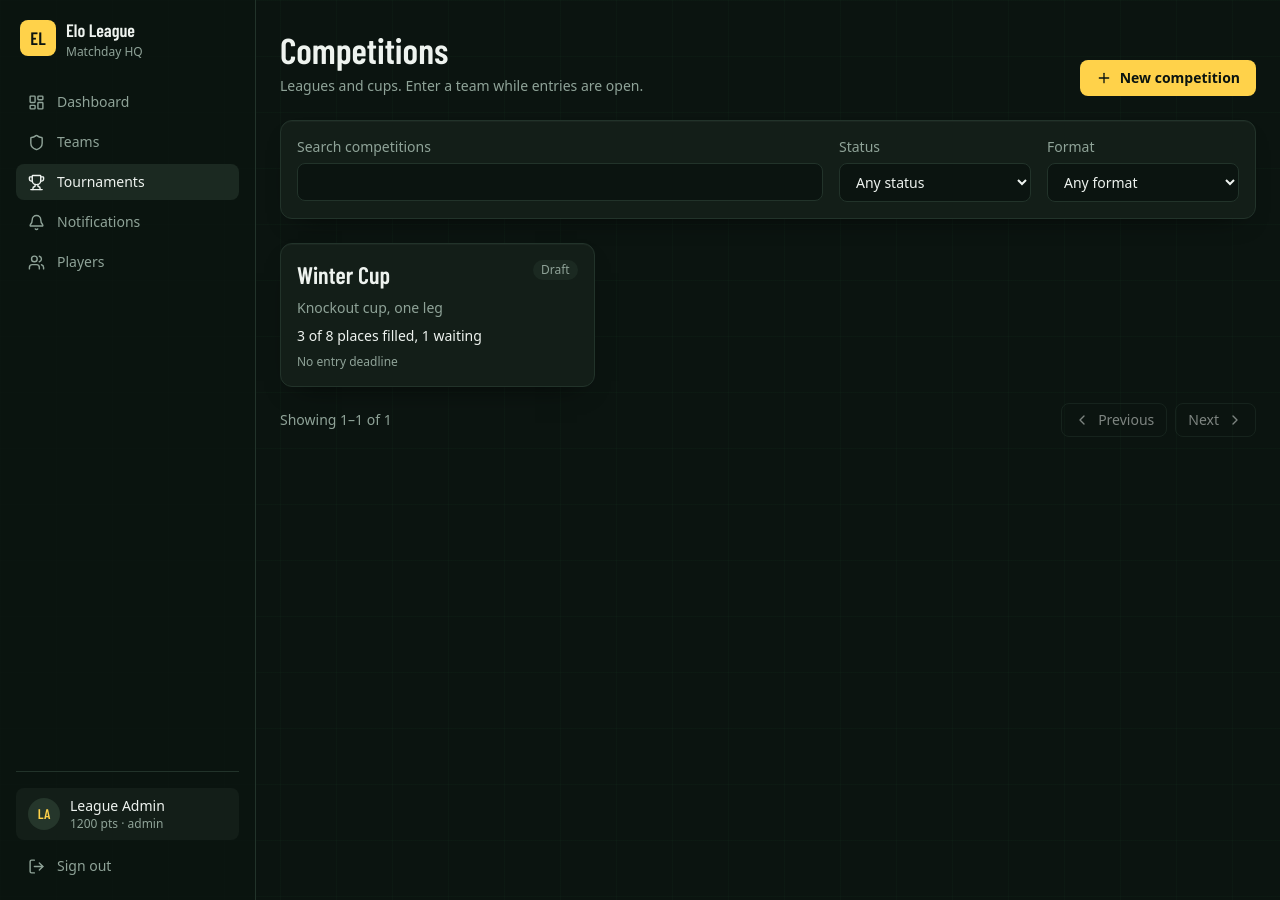
Test: creating a competition › checks the form before sending anything
This screenshot has width=1280, height=900.
Click the button "New competition" at point(1168, 78), box [1080,60,1256,96]
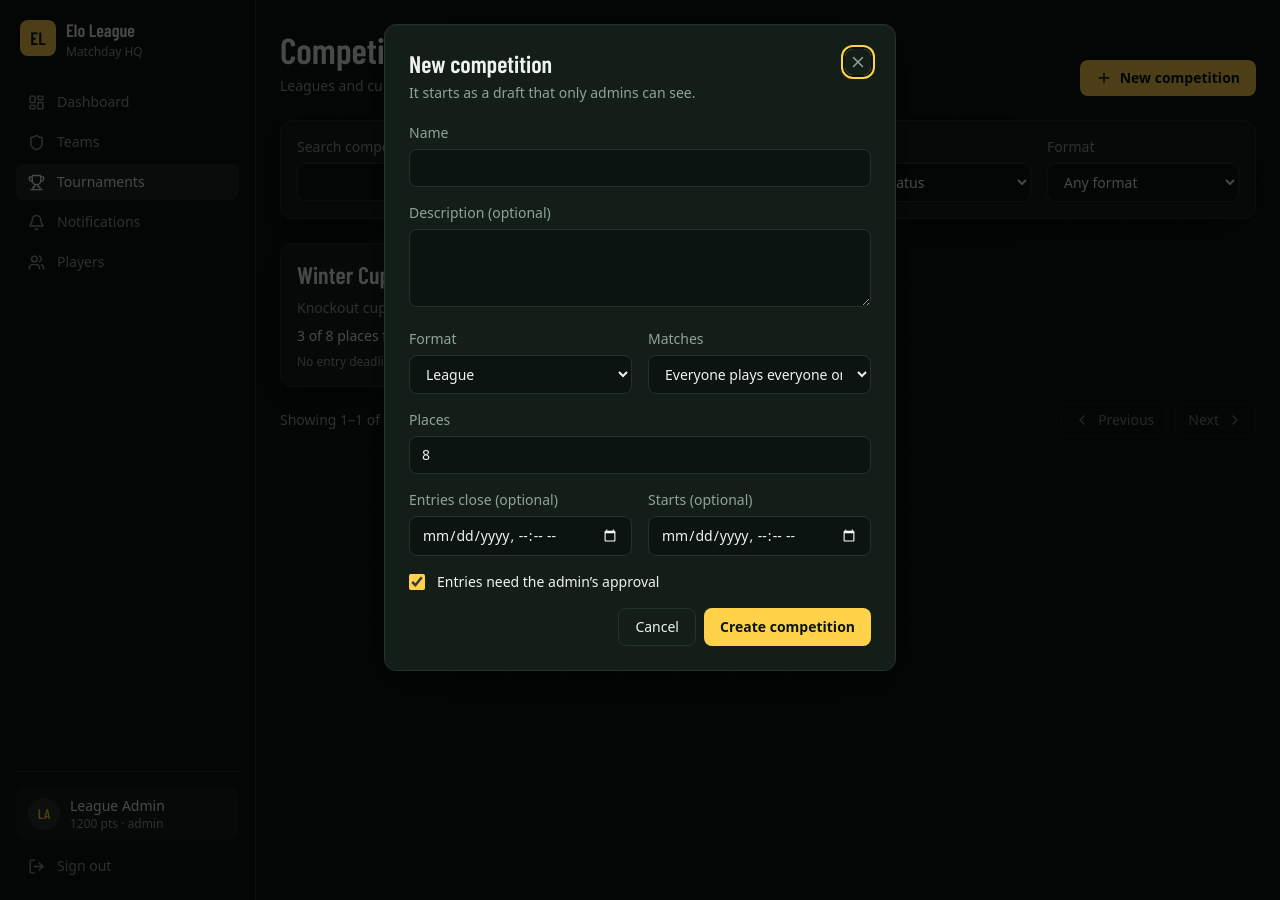
Click the button "Create competition" at point(788, 627), box [704,608,871,646]
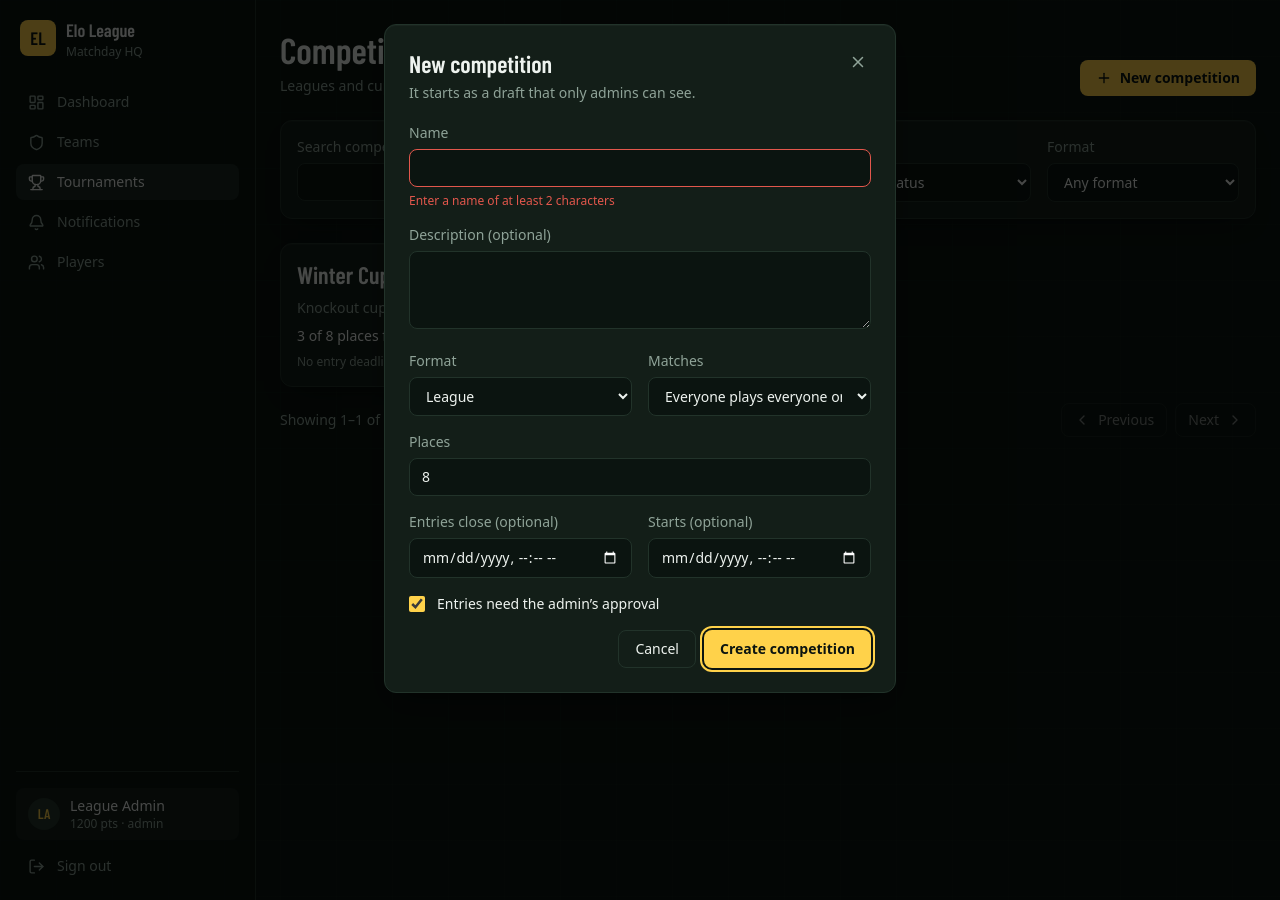
Check: the text "Enter a name of at least 2 characters" is shown, box [409,192,615,209]
